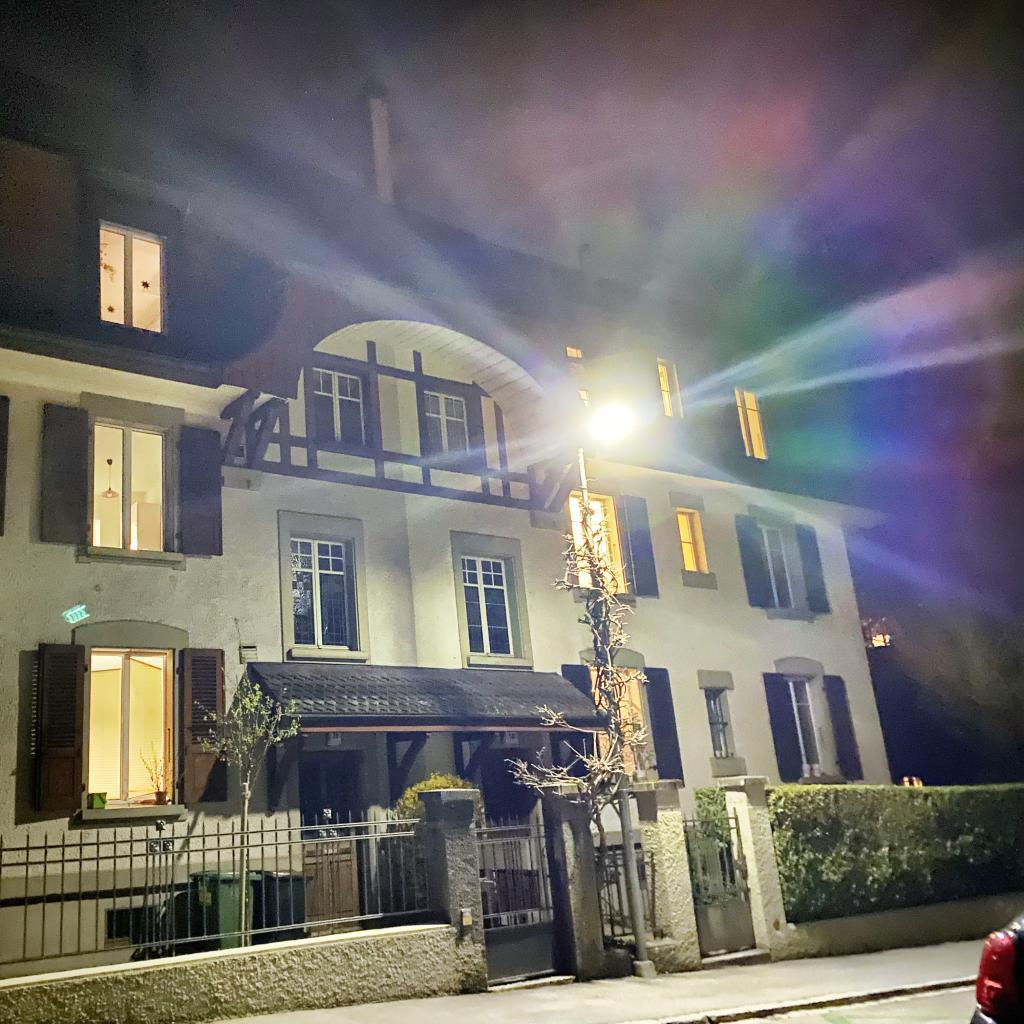balcony-fence: (216, 343, 592, 513)
car: (965, 899, 1024, 1024)
facade: (0, 40, 914, 979)
fence: (0, 774, 794, 1024)
vegetation: (503, 488, 658, 946), (191, 616, 305, 947), (766, 783, 1024, 923), (375, 772, 487, 918), (684, 784, 737, 902)
window: (87, 647, 175, 804), (90, 418, 170, 556), (289, 533, 360, 652), (98, 218, 164, 333), (458, 550, 525, 660), (565, 487, 631, 594), (588, 667, 649, 778), (779, 674, 833, 779), (310, 359, 370, 449), (755, 522, 807, 611), (422, 386, 478, 467), (729, 385, 770, 461), (702, 688, 737, 759), (675, 507, 709, 576), (655, 357, 686, 420), (562, 345, 589, 409)
